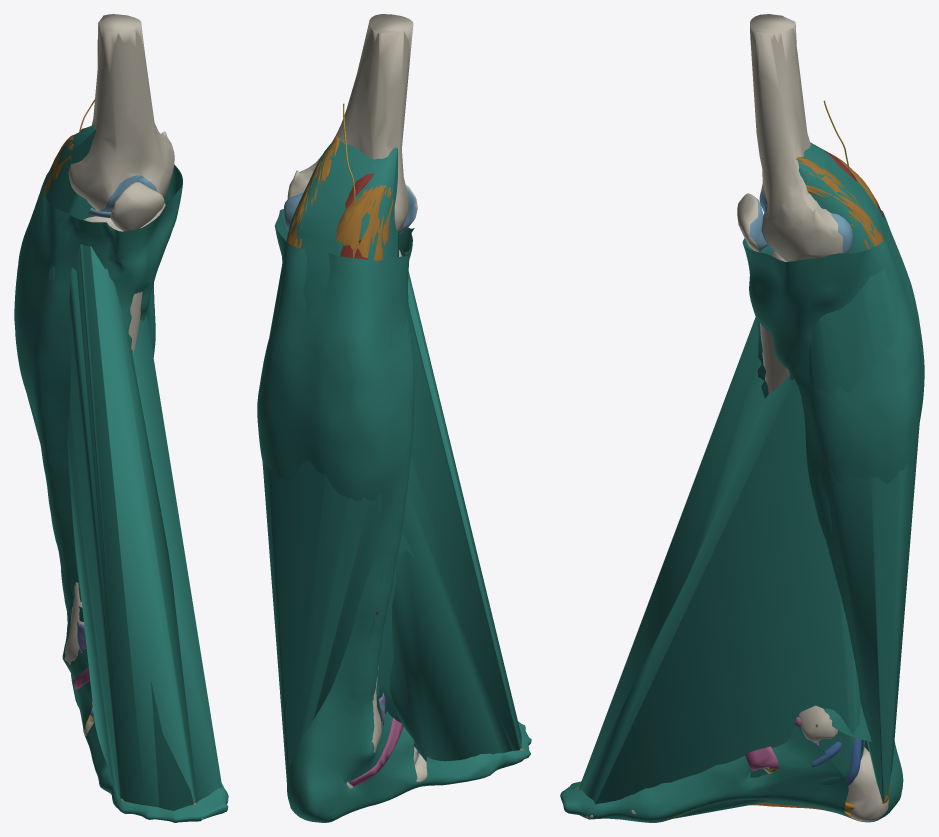
Rendered from right-lower-leg.glb.
3 views of the same model, side by side, from view 1: azimuth 30°, elevation 25°; view 2: azimuth 150°, elevation 25°; view 3: azimuth 270°, elevation 25° (orthographic). The views are drawn at different scales.
Parts seen in each view (by area): view 1: anterior_compartment, crural_fascia, deep_posterior_compartment, femur_distal, superficial_posterior_compartment, patella, tibia, fibula, gastrocnemius_lateral; view 2: crural_fascia, superficial_posterior_compartment, anterior_compartment, deep_posterior_compartment, femur_distal, gastrocnemius_lateral, gastrocnemius_medial, superior_fibular_retinaculum; view 3: deep_posterior_compartment, crural_fascia, superficial_posterior_compartment, femur_distal, anterior_compartment, tibia, calcaneus, gastrocnemius_medial, patella.
Part boxes in pixels (x1=…): anterior_compartment: x1=67, y1=244, x2=197, y2=806; crural_fascia: x1=14, y1=164, x2=228, y2=822; deep_posterior_compartment: x1=68, y1=268, x2=222, y2=810; femur_distal: x1=68, y1=14, x2=174, y2=212; superficial_posterior_compartment: x1=26, y1=126, x2=154, y2=441; patella: x1=110, y1=182, x2=164, y2=231; tibia: x1=83, y1=203, x2=165, y2=354; fibula: x1=64, y1=582, x2=83, y2=664; gastrocnemius_lateral: x1=45, y1=134, x2=74, y2=194; crural_fascia: x1=257, y1=209, x2=531, y2=822; superficial_posterior_compartment: x1=262, y1=140, x2=399, y2=783; anterior_compartment: x1=390, y1=272, x2=521, y2=761; deep_posterior_compartment: x1=376, y1=306, x2=519, y2=750; femur_distal: x1=284, y1=14, x2=413, y2=231; gastrocnemius_lateral: x1=335, y1=185, x2=394, y2=349; gastrocnemius_medial: x1=286, y1=135, x2=339, y2=248; superior_fibular_retinaculum: x1=348, y1=717, x2=403, y2=787; deep_posterior_compartment: x1=579, y1=376, x2=863, y2=819; crural_fascia: x1=560, y1=210, x2=924, y2=822; superficial_posterior_compartment: x1=797, y1=142, x2=919, y2=801; femur_distal: x1=750, y1=14, x2=852, y2=261; anterior_compartment: x1=578, y1=317, x2=765, y2=789; tibia: x1=760, y1=250, x2=837, y2=742; calcaneus: x1=846, y1=747, x2=888, y2=821; gastrocnemius_medial: x1=796, y1=157, x2=883, y2=460; patella: x1=737, y1=193, x2=767, y2=252.
Bounding box in the file's own units: 121 × 583 × 245.
